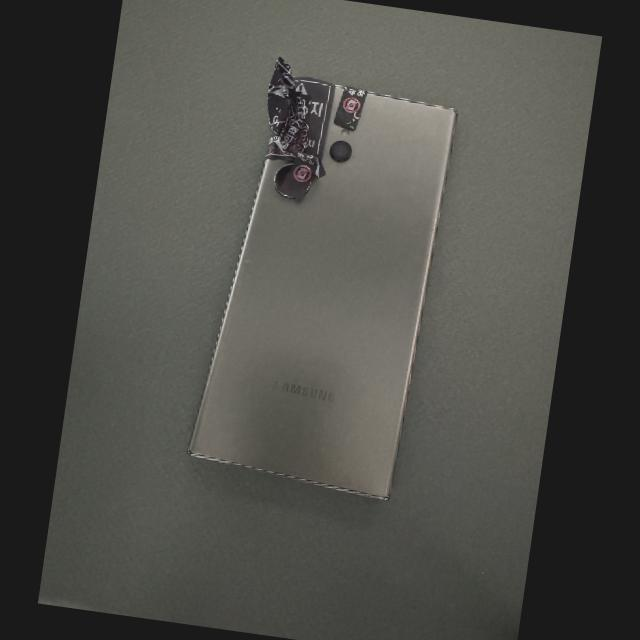lens: (275, 164, 293, 198), (330, 141, 352, 163)
phone: (187, 75, 455, 500)
sticker: (274, 77, 335, 161), (279, 154, 326, 201), (277, 93, 310, 158), (267, 57, 297, 125), (335, 88, 368, 131), (265, 130, 296, 161)
